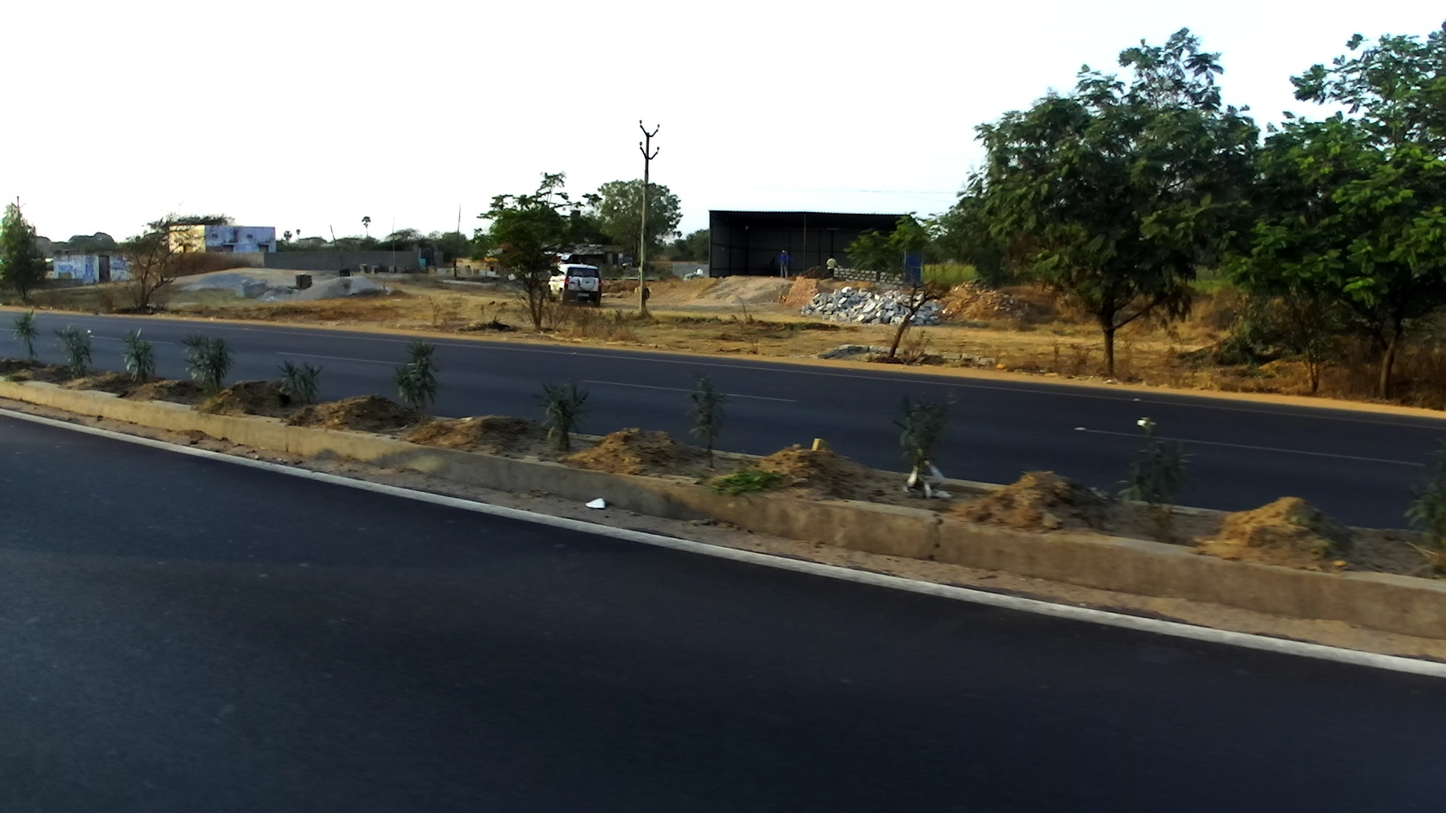car: (543, 260, 605, 309)
person: (775, 245, 792, 286), (826, 254, 841, 280)
